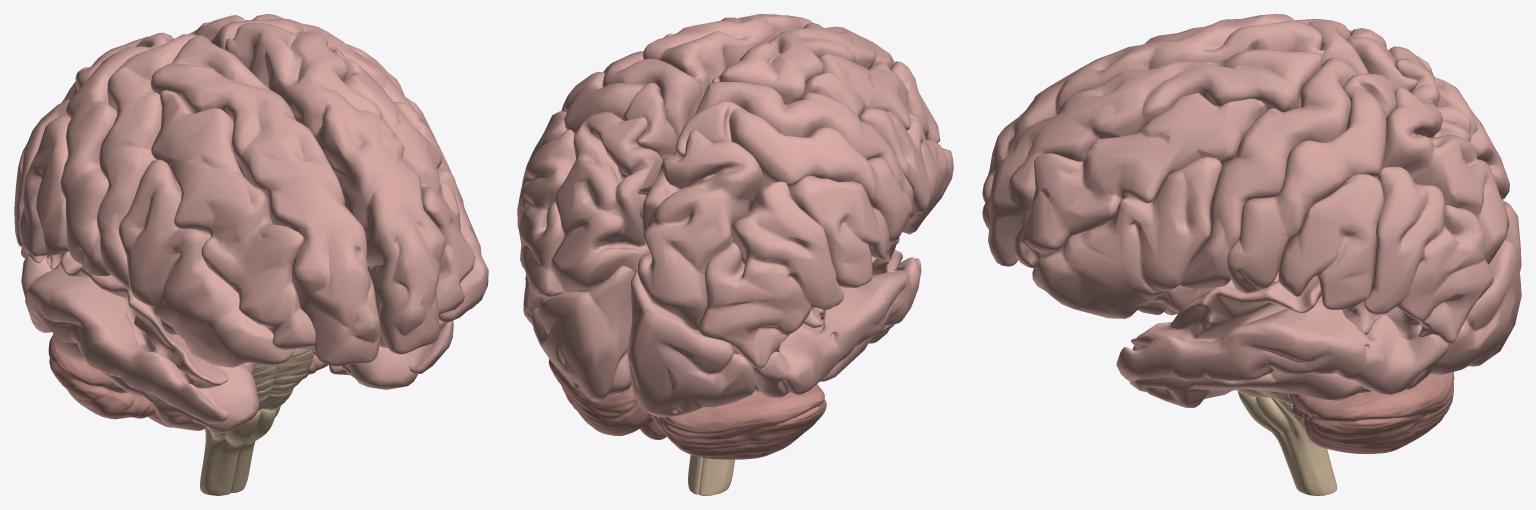
File: head.glb
3 renders of one model, left to right at view 1: azimuth 30°, elevation 25°; view 2: azimuth 150°, elevation 25°; view 3: azimuth 270°, elevation 25°, orthographic. The views are drawn at different scales.
Visible parts, largest first — view 1: grp1 (×23); view 2: grp1 (×23); view 3: grp1 (×19).
Boxes of the visible parts, x1,y1,x2,y2 form: grp1 (×23): (14, 14, 488, 495); grp1 (×23): (517, 14, 953, 495); grp1 (×19): (982, 14, 1521, 495).
Size of the model in its own units: 2.16 by 2.58 by 2.8.
